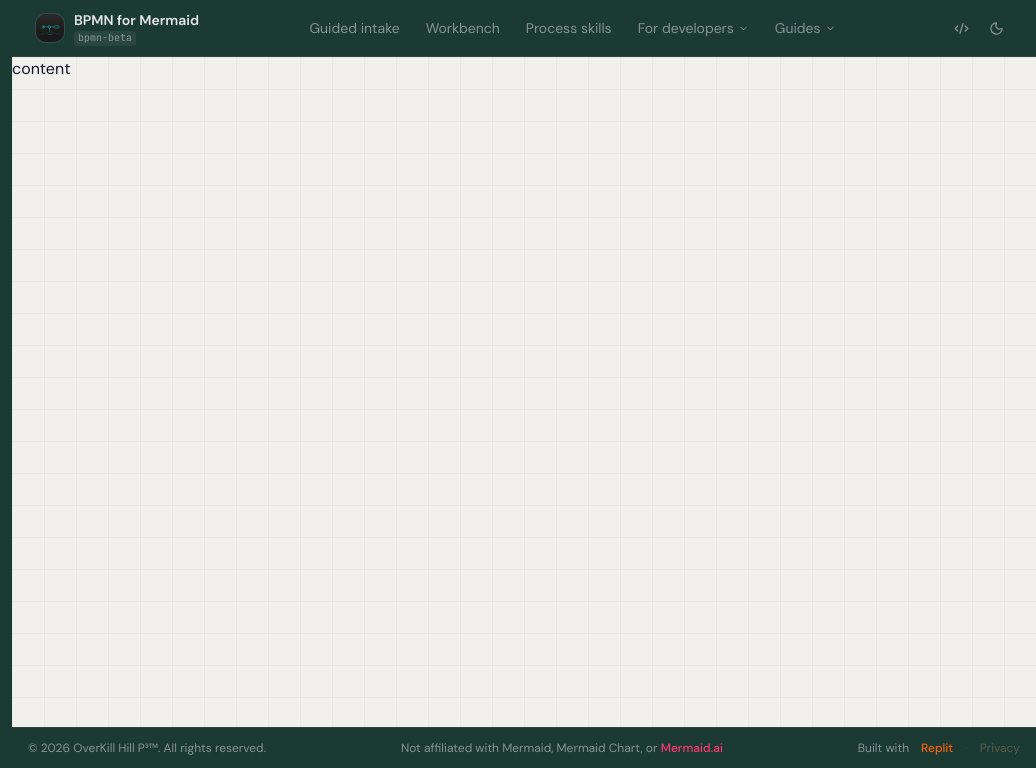
Test: NavDropdown — keyboard navigation › Plugin ▾ dropdown › open → ArrowDown → select via Enter navigates correctly
Click the button "For developers" at (693, 28), box x1=626 y1=12 x2=761 y2=44
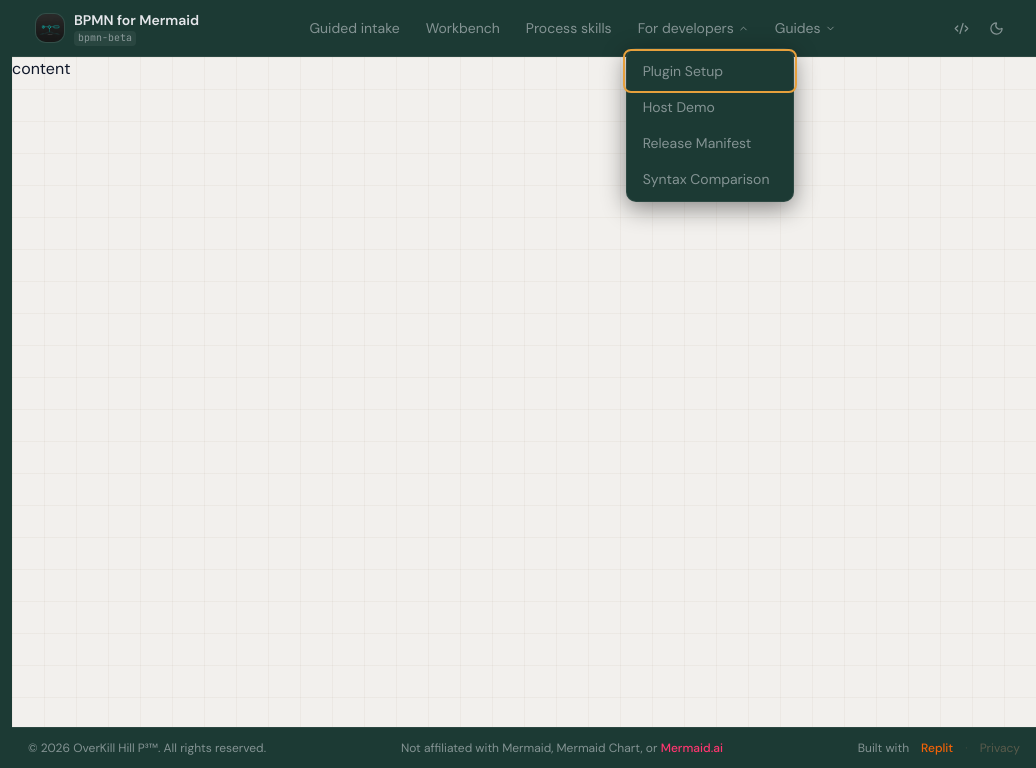
// Move to second item
Press ArrowDown in the menu item "Plugin Setup", box x1=643 y1=62 x2=723 y2=80
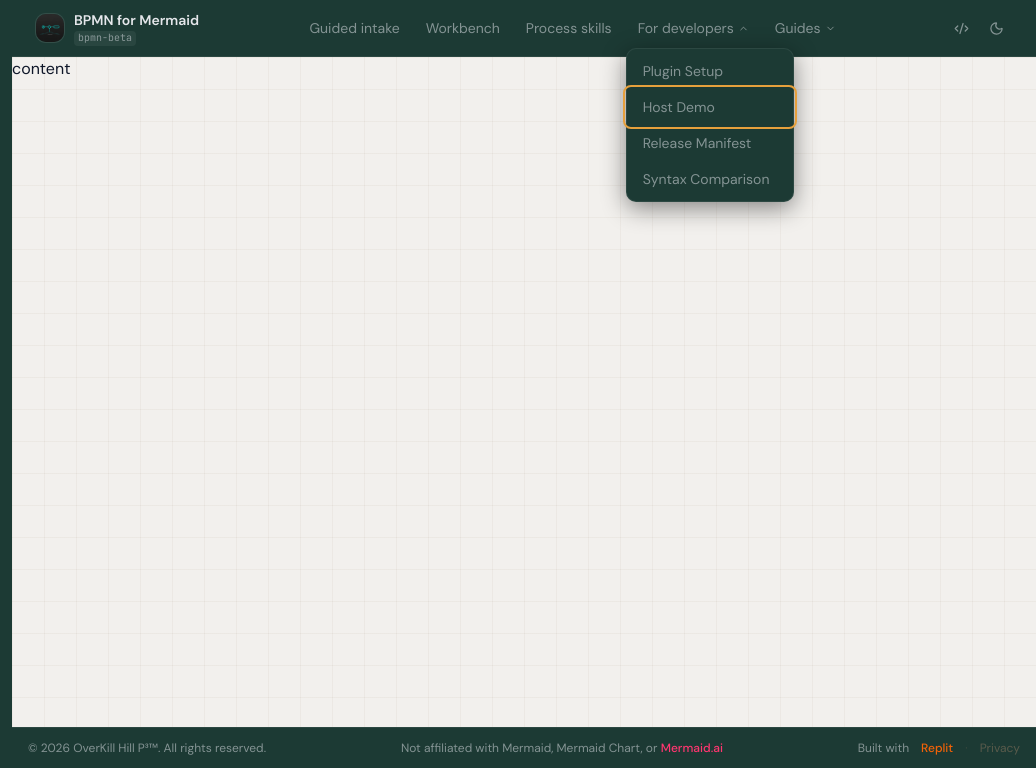
// Activate via click (simulates Enter on a link)
Click the menu item "Host Demo" at (679, 107), box x1=643 y1=98 x2=715 y2=116
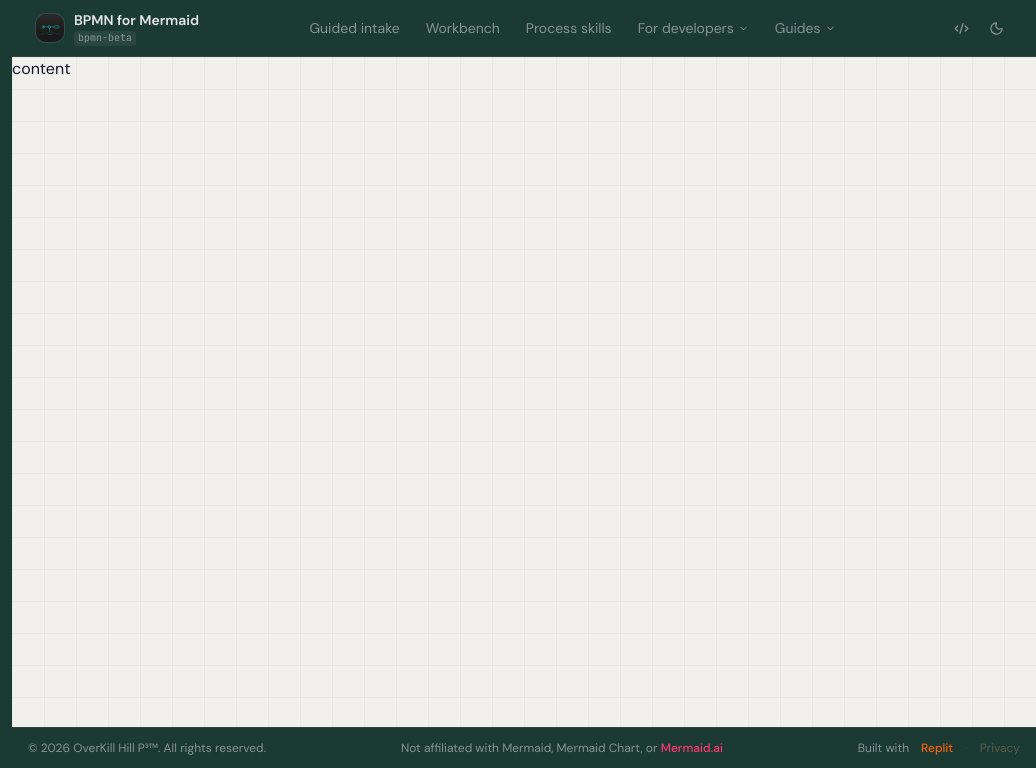
Result: the menu is gone
